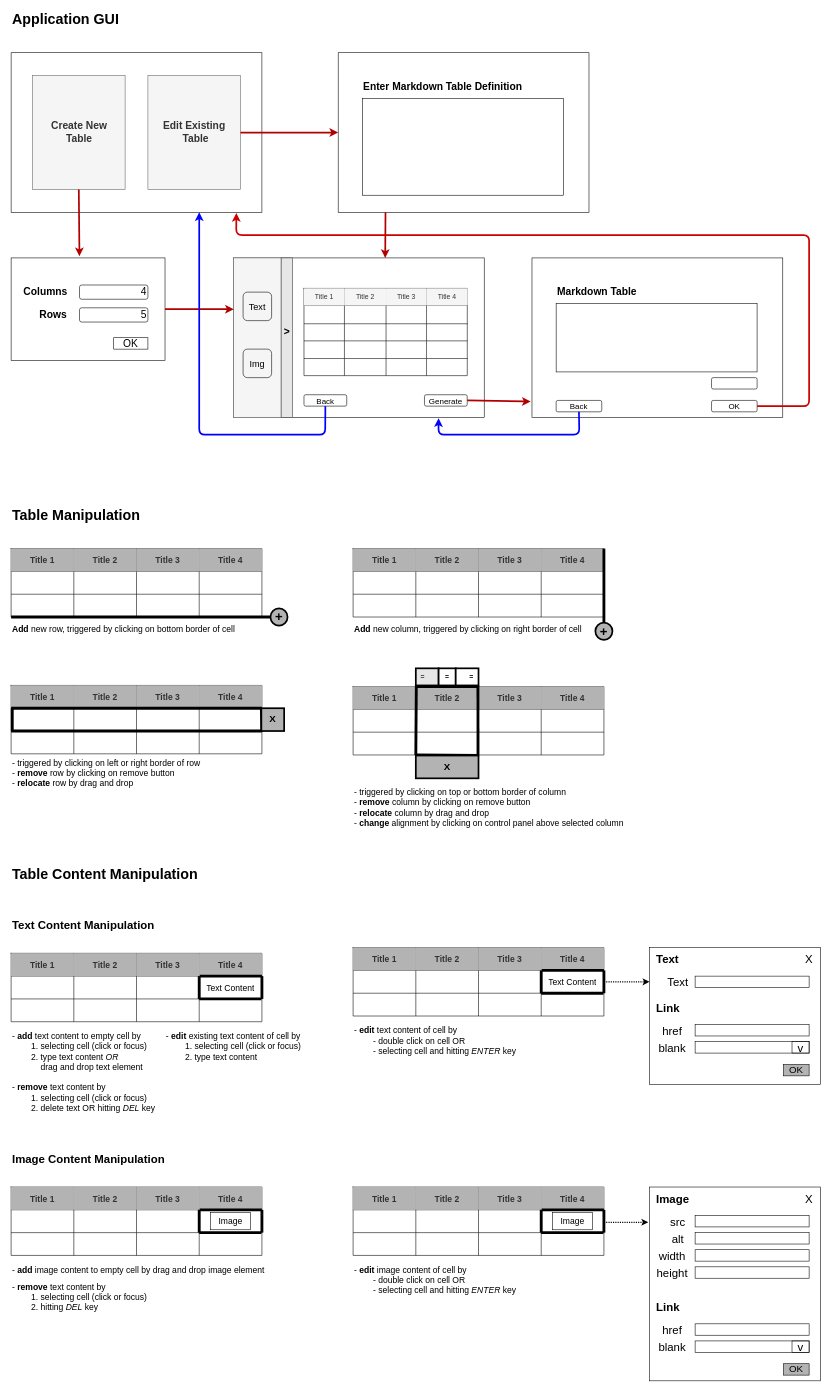
Image size: 830x1391. Some labels were removed from this diagram. The centre of each missing label's shape, as x and y in pixels:
"Copy" goes at pixel 734 383.
"Markdown Content" goes at pixel 656 337.
"Text Input" goes at pixel 462 146.
